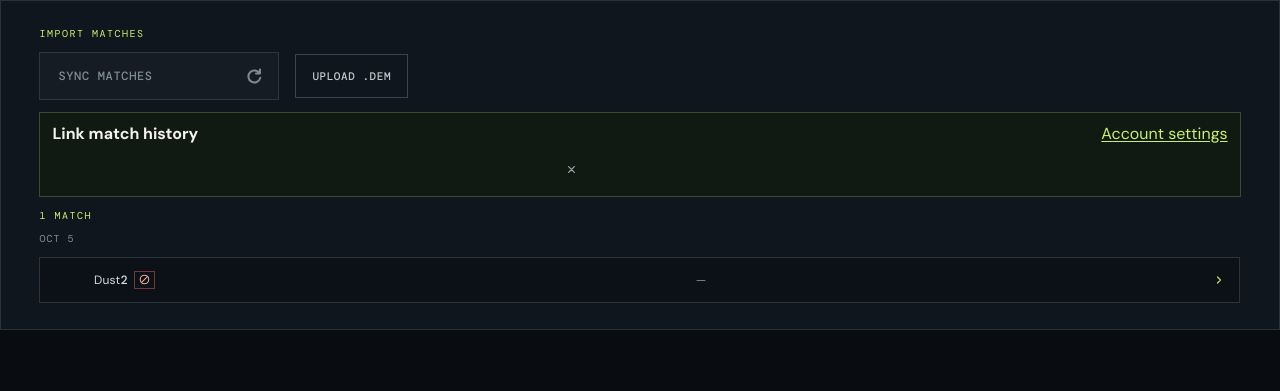
Test case: match list UX › shows a stub glyph for matches that did not import
expect the 3rd icon is shown: met, box [139,274,150,285]
expect the text "—" is shown: met, box [696,272,707,288]
Click the button "Dust2 —": (108, 280) [39,257,1241,303]
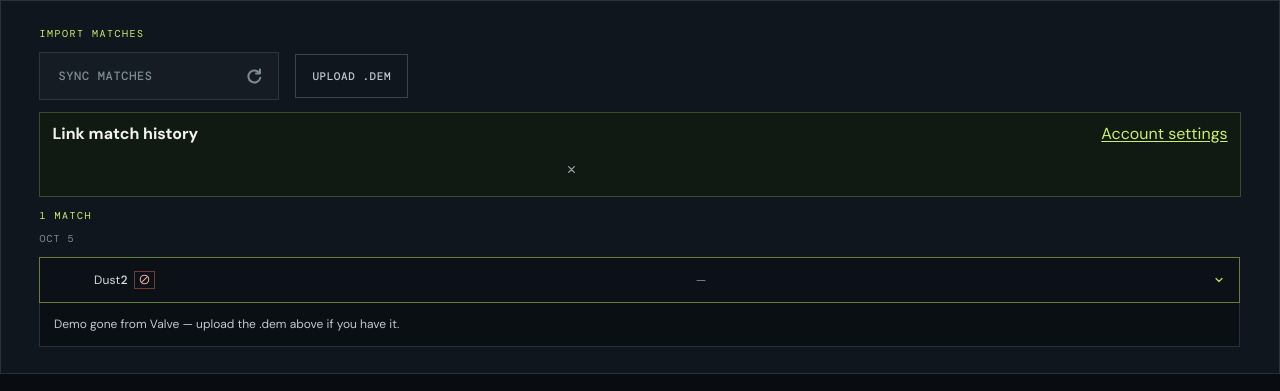
expect the element showing "Demo gone from Valve — upload the .dem above if you have it." is shown: met, box [39,303,1241,347]
